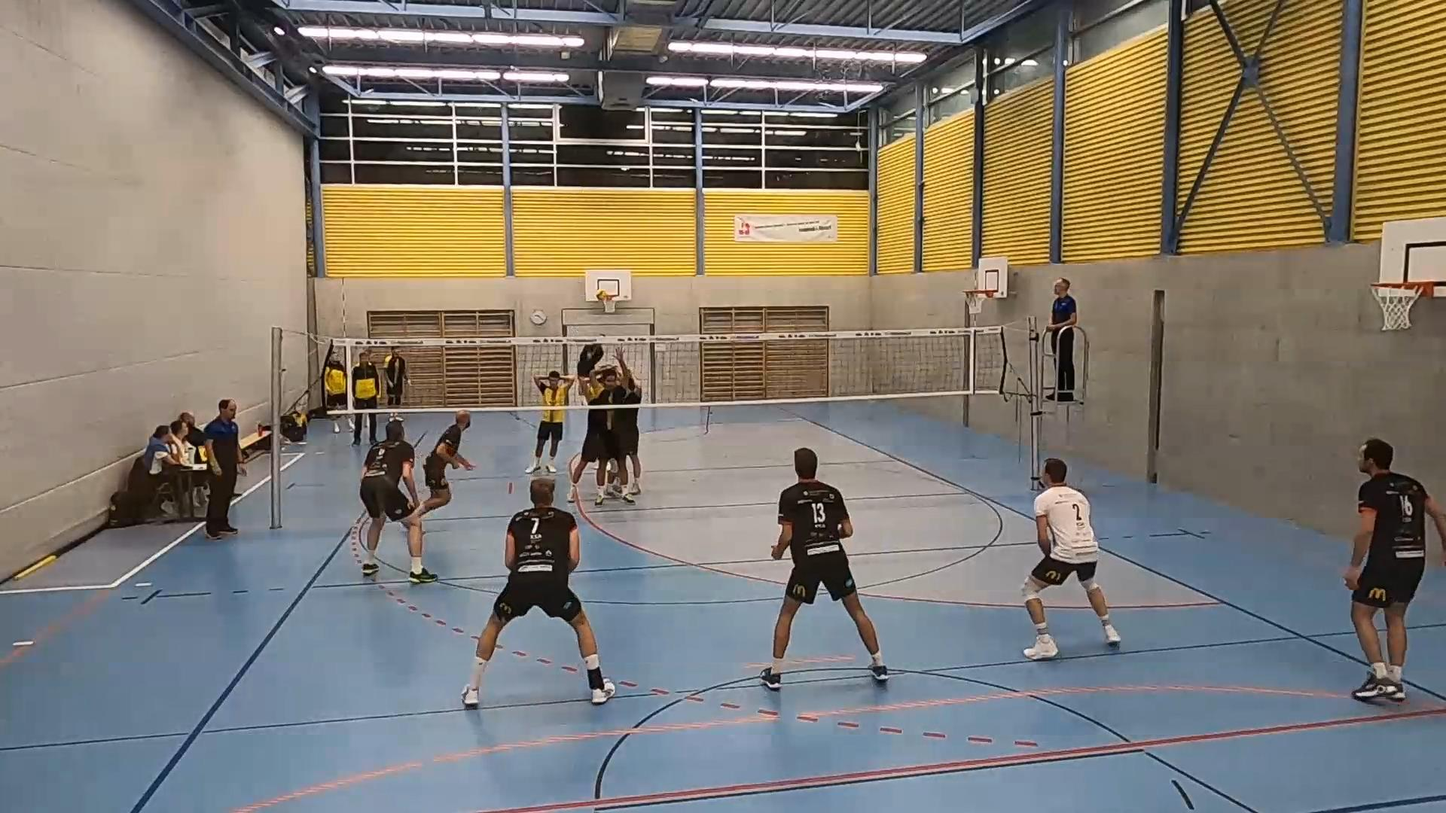battuta: (569, 324, 611, 391)
